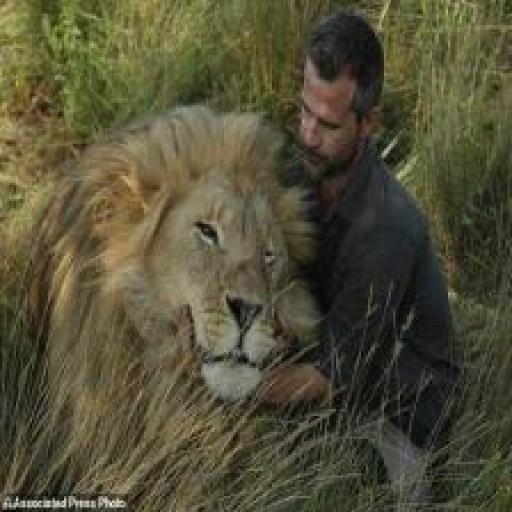lion: (4, 100, 318, 476)
